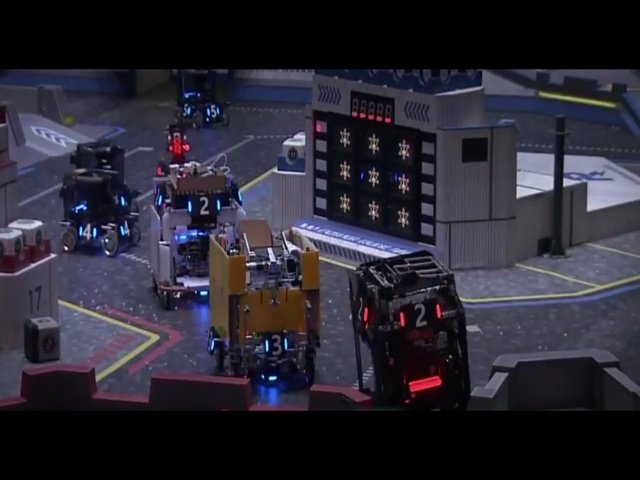plate: (397, 301, 445, 330), (184, 189, 225, 220), (258, 325, 295, 359), (351, 289, 377, 329), (77, 220, 102, 244), (203, 97, 224, 123), (205, 328, 222, 353), (152, 183, 168, 208), (180, 96, 195, 121), (120, 217, 134, 242)
